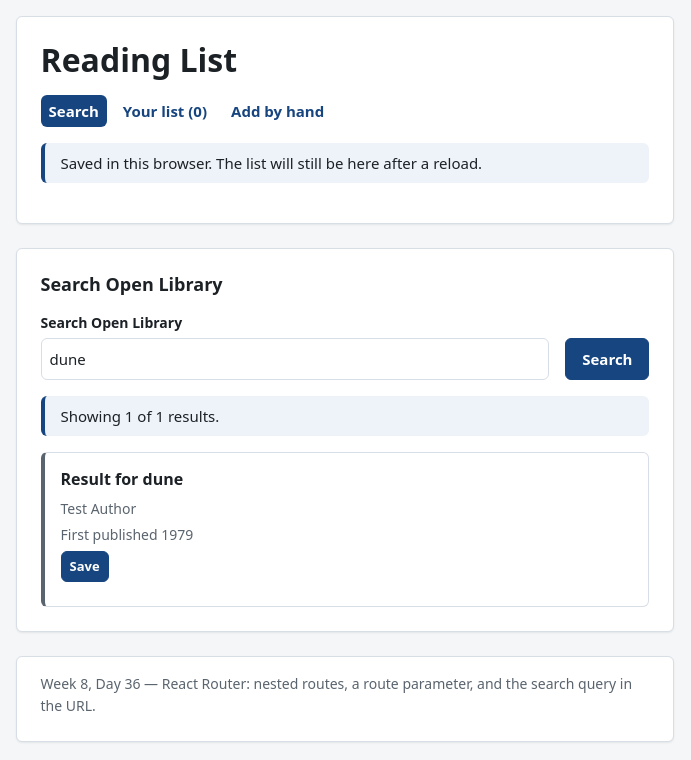
Scenario: search to list, end to end › counts the saved book in the nav
Check: the link "Your list (0)" is shown, box [123, 101, 207, 121]
Click the button "Save".
click(85, 566)  # box [60, 551, 109, 582]
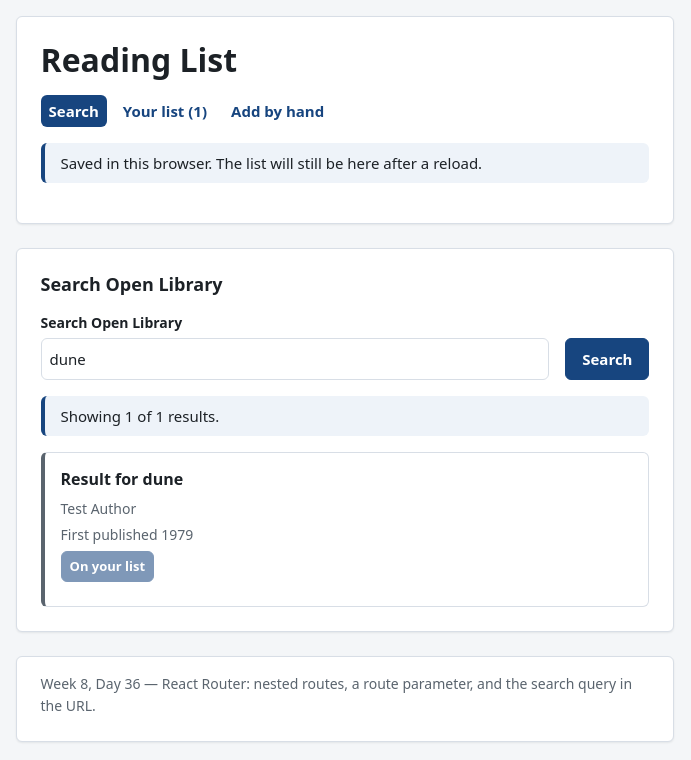
Check: the link "Your list (1)" is shown, box [123, 101, 207, 121]
